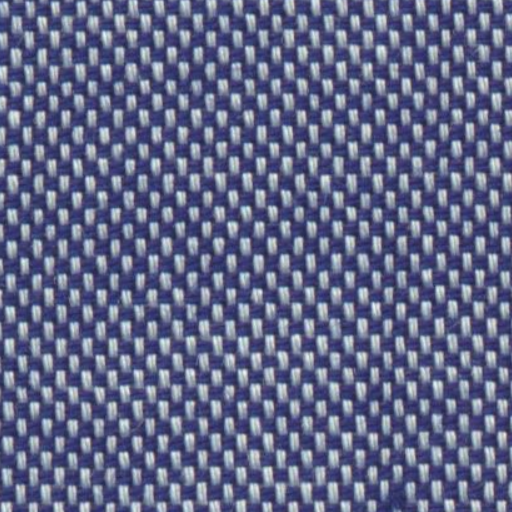MianQiu: (360, 474, 428, 507)
